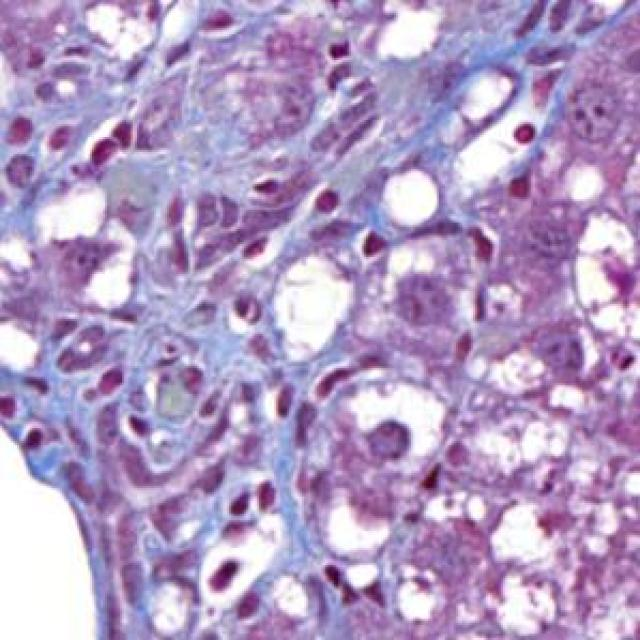steatosis: (374, 165, 452, 227)
